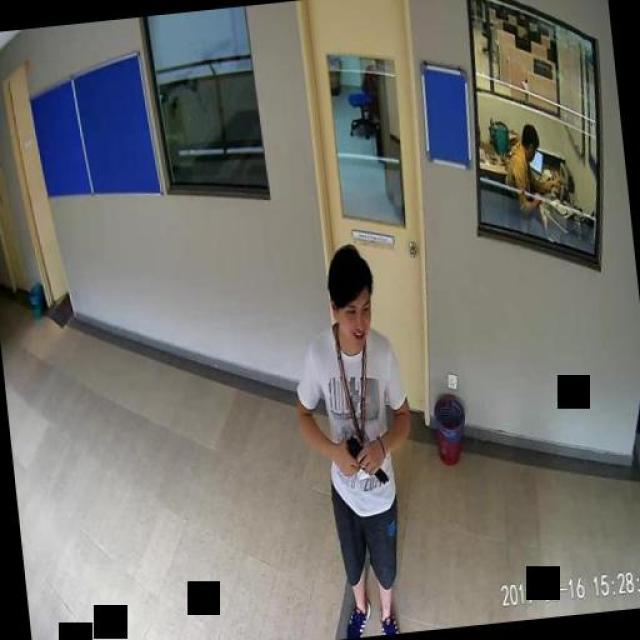gun: (344, 432, 386, 488)
